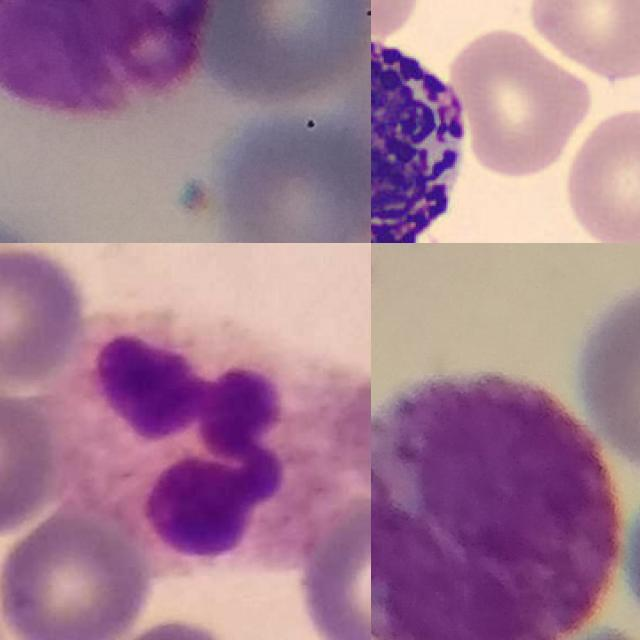Basophil: (371, 371, 622, 640), (0, 0, 215, 117), (371, 21, 478, 243)
Neutrophil: (45, 312, 371, 565)
RBC: (445, 23, 596, 180), (558, 102, 640, 243), (522, 0, 640, 81)
